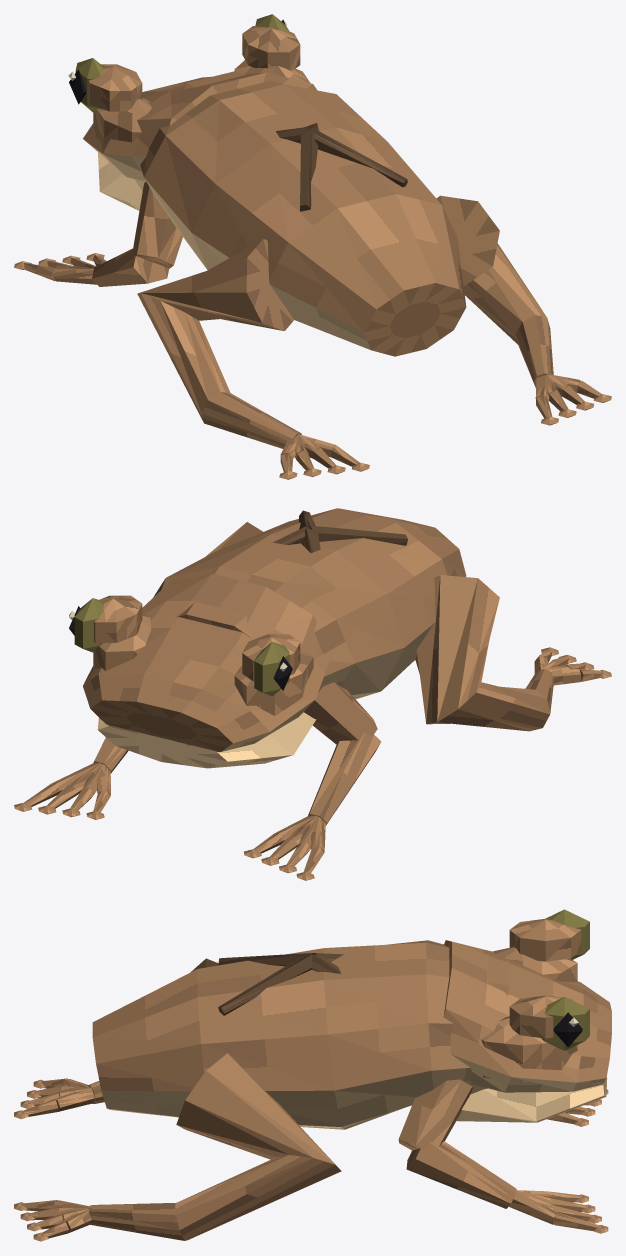
File: mon_peeper_frog.glb
3 renders of one model, top to bottom at view 1: azimuth 30°, elevation 25°; view 2: azimuth 150°, elevation 25°; view 3: azimuth 270°, elevation 25°, orthographic.
Visible parts, largest first — view 1: closed_body; view 2: closed_body; view 3: closed_body.
Boxes of the visible parts, x1,y1,x2,y2 form: closed_body: (14,14,611,479); closed_body: (14,508,611,880); closed_body: (14,909,611,1241).
Size of the model in its own units: 0.0603 by 0.0353 by 0.09.
1 material, 1 textured.
